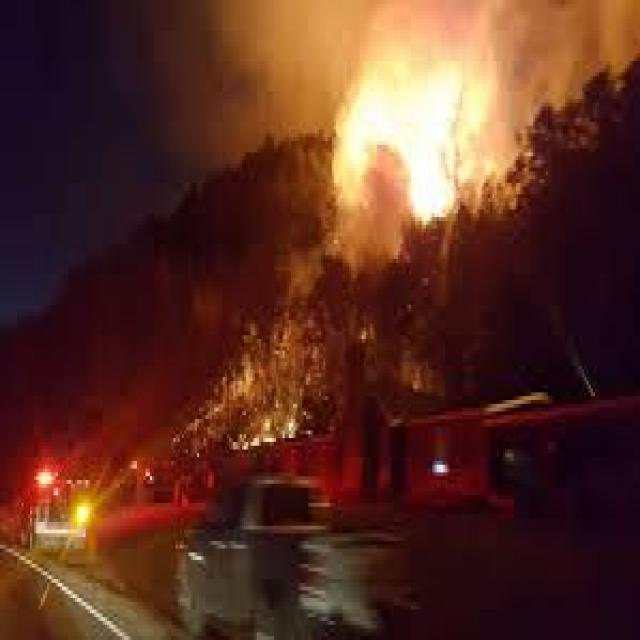Fire: (321, 53, 501, 244)
